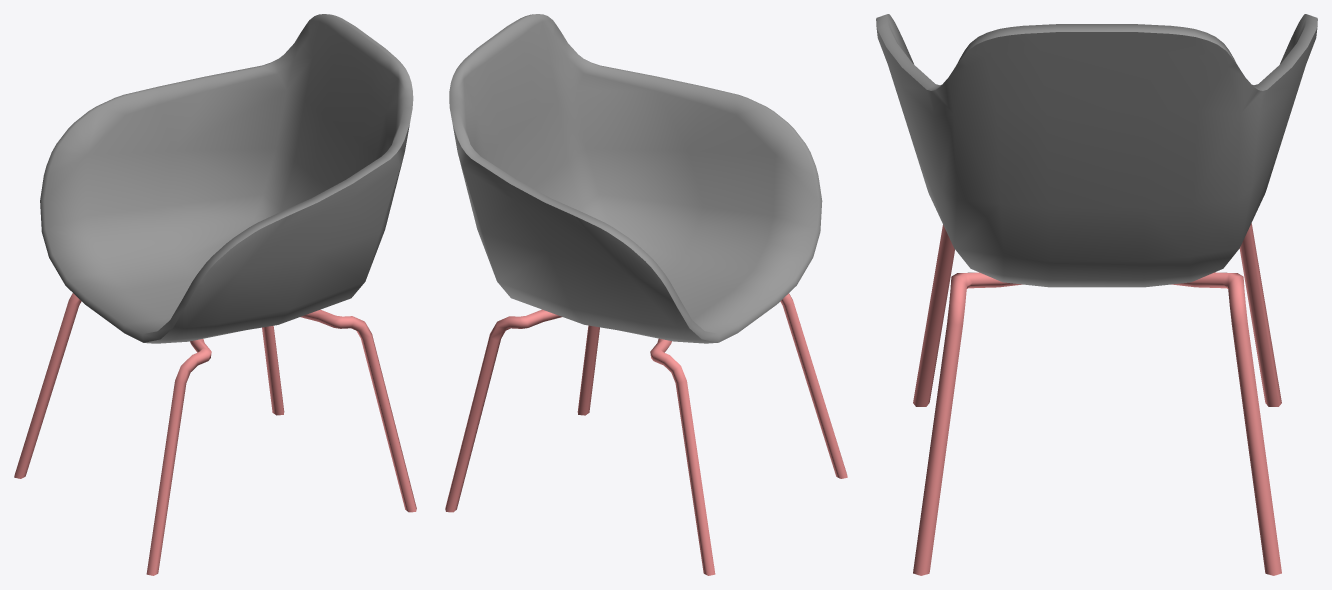
The model's file is chair_02.gltf.
3 renders of one model, left to right at view 1: azimuth 30°, elevation 25°; view 2: azimuth 150°, elevation 25°; view 3: azimuth 270°, elevation 25°, orthographic. The views are drawn at different scales.
Parts seen in each view (by area): view 1: chair_02; view 2: chair_02; view 3: chair_02.
Boxes of the visible parts, left/top/right/bottom form: chair_02: left=14, top=14, right=416, bottom=575; chair_02: left=445, top=14, right=847, bottom=575; chair_02: left=876, top=14, right=1317, bottom=575.
Size of the model in its own units: 0.6875 by 0.9549 by 0.683.
